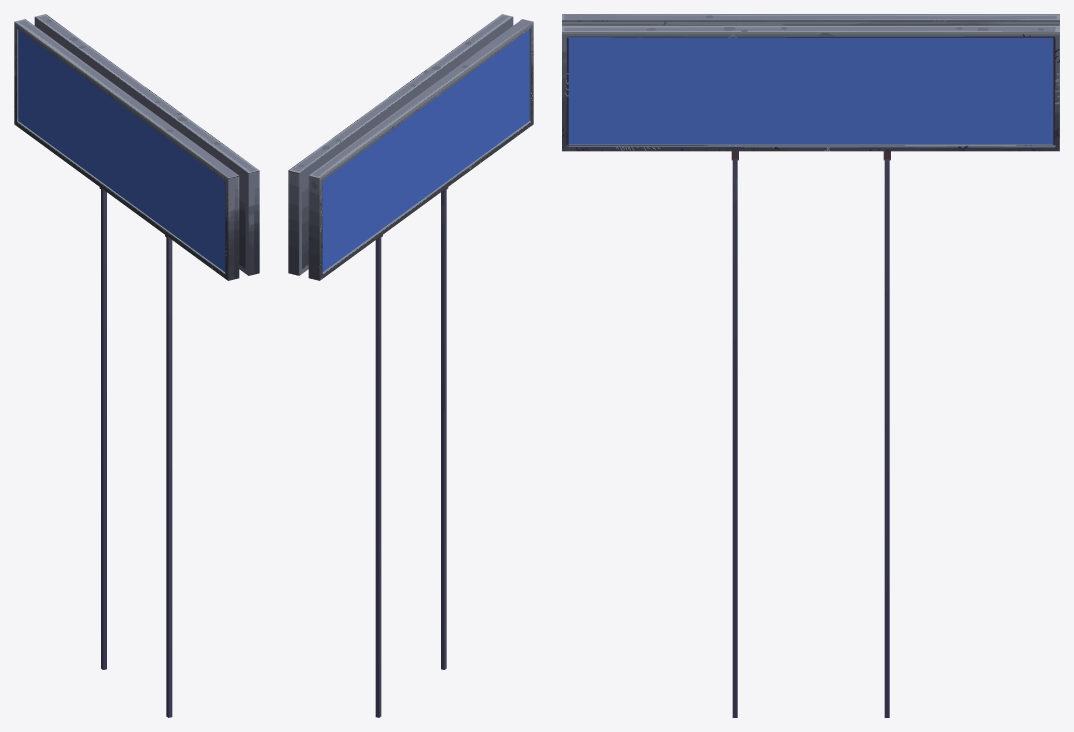
Rendered from Billboard_bigger.glb.
3 views of the same model, side by side, from view 1: azimuth 30°, elevation 25°; view 2: azimuth 150°, elevation 25°; view 3: azimuth 270°, elevation 25° (orthographic). The views are drawn at different scales.
Visible parts, largest first — view 1: Billboard_bigger; view 2: Billboard_bigger; view 3: Billboard_bigger.
Boxes of the visible parts, <box> form: Billboard_bigger: <box>14,14,259,717</box>; Billboard_bigger: <box>288,14,533,717</box>; Billboard_bigger: <box>562,14,1059,717</box>.
Bounding box in the file's own units: 4.61 × 83.29 × 54.13.
Materials: 2 (1 with a texture image).
